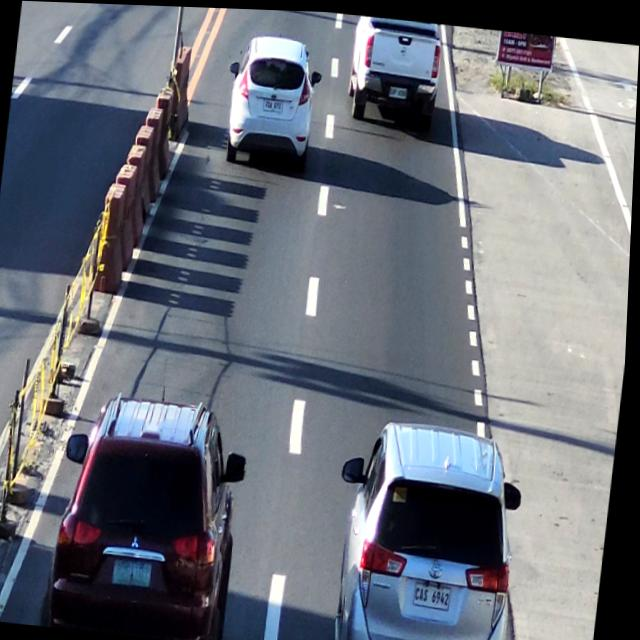Car: (58, 389, 250, 640), (335, 406, 533, 640), (217, 32, 325, 173), (345, 12, 447, 128)
License-Plate: (414, 574, 459, 607), (114, 557, 160, 589), (262, 93, 283, 110), (389, 82, 407, 96)
